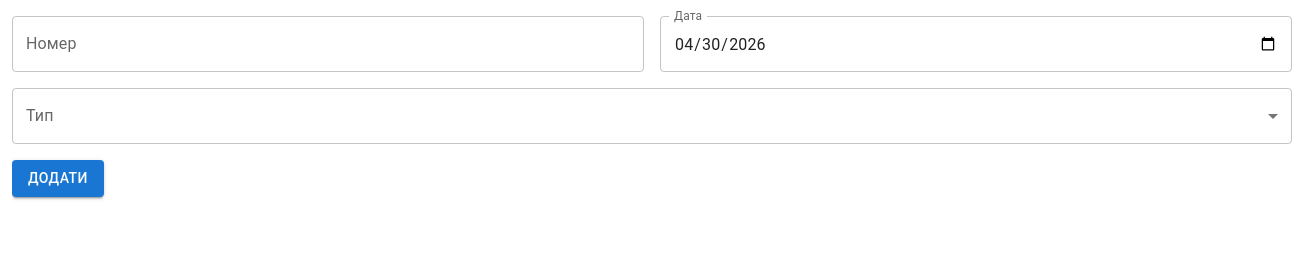
Test: OrderForm › renders options in select fields
Click the dropdown named "Тип". click: (652, 116)
box: [12,88,1292,144]
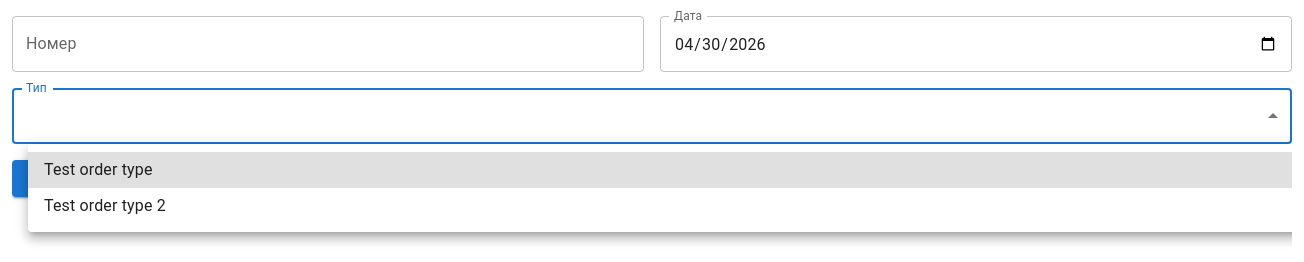
Result: the option "Test order type 2" is shown at [44,196,166,215]
